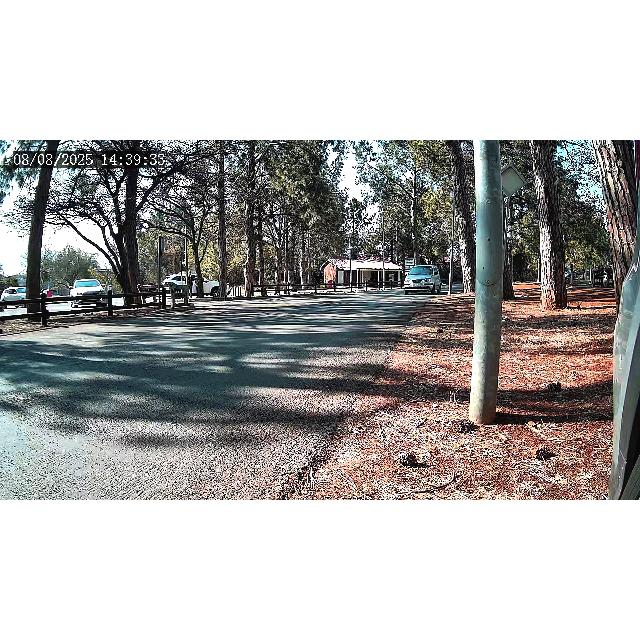car: (161, 272, 233, 298), (66, 278, 110, 310), (404, 266, 442, 294)
